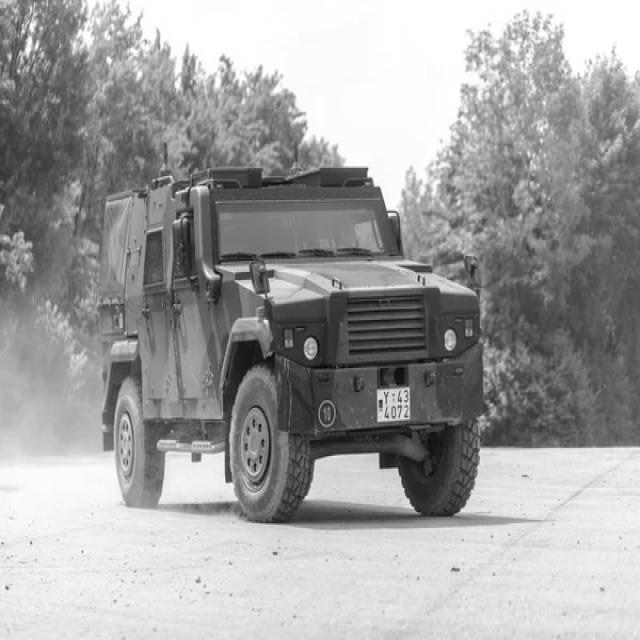Truck: (98, 151, 484, 524)
